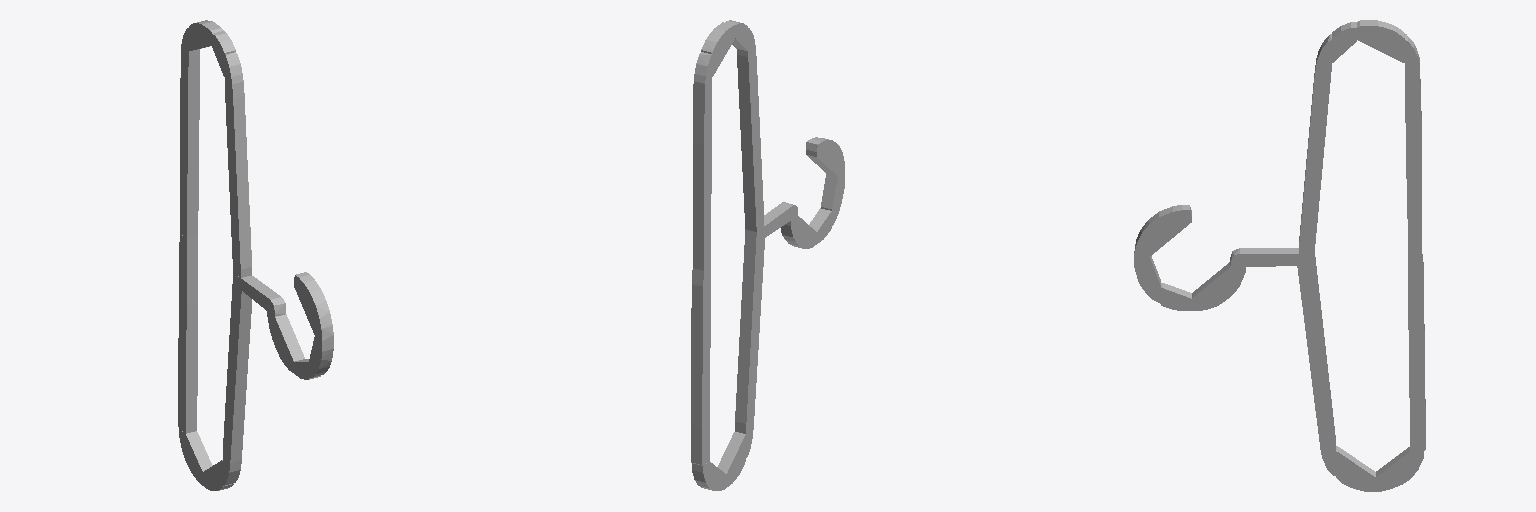
robot.urdf — root:
<robot name="root">
  <link name="link_f937e06d2f3cc9e0b80b68728684f2ff_convex_piece_0">
    <inertial>
      <origin rpy="0 0 0" xyz="0 0 0"/>
      <mass value="5.08E-08"/>
      <inertia ixx="1.53E-11" ixy="4.91E-14" ixz="-1.22E-14" iyy="1.27E-12" iyz="-3.90E-12" izz="1.40E-11"/>
    </inertial>
    <visual>
      <origin rpy="0 0 0" xyz="0 0 0"/>
      <geometry>
        <mesh filename="f937e06d2f3cc9e0b80b68728684f2ff_convex_piece_0.obj" scale="1.0000E+00"/>
      </geometry>
      <material name="">
        <color rgba="7.50E-01 7.50E-01 7.50E-01 1"/>
      </material>
    </visual>
    <collision>
      <origin rpy="0 0 0" xyz="0 0 0"/>
      <geometry>
        <mesh filename="f937e06d2f3cc9e0b80b68728684f2ff_convex_piece_0.obj" scale="1.0000E+00"/>
      </geometry>
    </collision>
  </link>
  <link name="link_f937e06d2f3cc9e0b80b68728684f2ff_convex_piece_1">
    <inertial>
      <origin rpy="0 0 0" xyz="0 0 0"/>
      <mass value="4.41E-08"/>
      <inertia ixx="2.65E-12" ixy="2.18E-14" ixz="1.24E-14" iyy="1.44E-12" iyz="2.49E-12" izz="1.23E-12"/>
    </inertial>
    <visual>
      <origin rpy="0 0 0" xyz="0 0 0"/>
      <geometry>
        <mesh filename="f937e06d2f3cc9e0b80b68728684f2ff_convex_piece_1.obj" scale="1.0000E+00"/>
      </geometry>
      <material name="">
        <color rgba="7.50E-01 7.50E-01 7.50E-01 1"/>
      </material>
    </visual>
    <collision>
      <origin rpy="0 0 0" xyz="0 0 0"/>
      <geometry>
        <mesh filename="f937e06d2f3cc9e0b80b68728684f2ff_convex_piece_1.obj" scale="1.0000E+00"/>
      </geometry>
    </collision>
  </link>
  <joint name="link_f937e06d2f3cc9e0b80b68728684f2ff_convex_piece_1_joint" type="fixed">
    <origin rpy="0 0 0" xyz="0 0 0"/>
    <parent link="link_f937e06d2f3cc9e0b80b68728684f2ff_convex_piece_0"/>
    <child link="link_f937e06d2f3cc9e0b80b68728684f2ff_convex_piece_1"/>
  </joint>
  <link name="link_f937e06d2f3cc9e0b80b68728684f2ff_convex_piece_2">
    <inertial>
      <origin rpy="0 0 0" xyz="0 0 0"/>
      <mass value="3.10E-08"/>
      <inertia ixx="-1.58E-12" ixy="4.10E-15" ixz="4.58E-16" iyy="2.33E-14" iyz="1.13E-13" izz="-1.58E-12"/>
    </inertial>
    <visual>
      <origin rpy="0 0 0" xyz="0 0 0"/>
      <geometry>
        <mesh filename="f937e06d2f3cc9e0b80b68728684f2ff_convex_piece_2.obj" scale="1.0000E+00"/>
      </geometry>
      <material name="">
        <color rgba="7.50E-01 7.50E-01 7.50E-01 1"/>
      </material>
    </visual>
    <collision>
      <origin rpy="0 0 0" xyz="0 0 0"/>
      <geometry>
        <mesh filename="f937e06d2f3cc9e0b80b68728684f2ff_convex_piece_2.obj" scale="1.0000E+00"/>
      </geometry>
    </collision>
  </link>
  <joint name="link_f937e06d2f3cc9e0b80b68728684f2ff_convex_piece_2_joint" type="fixed">
    <origin rpy="0 0 0" xyz="0 0 0"/>
    <parent link="link_f937e06d2f3cc9e0b80b68728684f2ff_convex_piece_1"/>
    <child link="link_f937e06d2f3cc9e0b80b68728684f2ff_convex_piece_2"/>
  </joint>
  <link name="link_f937e06d2f3cc9e0b80b68728684f2ff_convex_piece_3">
    <inertial>
      <origin rpy="0 0 0" xyz="0 0 0"/>
      <mass value="2.83E-08"/>
      <inertia ixx="1.05E-11" ixy="3.12E-14" ixz="5.14E-15" iyy="4.41E-13" iyz="1.98E-12" izz="1.01E-11"/>
    </inertial>
    <visual>
      <origin rpy="0 0 0" xyz="0 0 0"/>
      <geometry>
        <mesh filename="f937e06d2f3cc9e0b80b68728684f2ff_convex_piece_3.obj" scale="1.0000E+00"/>
      </geometry>
      <material name="">
        <color rgba="7.50E-01 7.50E-01 7.50E-01 1"/>
      </material>
    </visual>
    <collision>
      <origin rpy="0 0 0" xyz="0 0 0"/>
      <geometry>
        <mesh filename="f937e06d2f3cc9e0b80b68728684f2ff_convex_piece_3.obj" scale="1.0000E+00"/>
      </geometry>
    </collision>
  </link>
  <joint name="link_f937e06d2f3cc9e0b80b68728684f2ff_convex_piece_3_joint" type="fixed">
    <origin rpy="0 0 0" xyz="0 0 0"/>
    <parent link="link_f937e06d2f3cc9e0b80b68728684f2ff_convex_piece_2"/>
    <child link="link_f937e06d2f3cc9e0b80b68728684f2ff_convex_piece_3"/>
  </joint>
  <link name="link_f937e06d2f3cc9e0b80b68728684f2ff_convex_piece_4">
    <inertial>
      <origin rpy="0 0 0" xyz="0 0 0"/>
      <mass value="1.81E-08"/>
      <inertia ixx="4.57E-12" ixy="1.55E-14" ixz="6.98E-15" iyy="9.79E-13" iyz="2.18E-12" izz="3.60E-12"/>
    </inertial>
    <visual>
      <origin rpy="0 0 0" xyz="0 0 0"/>
      <geometry>
        <mesh filename="f937e06d2f3cc9e0b80b68728684f2ff_convex_piece_4.obj" scale="1.0000E+00"/>
      </geometry>
      <material name="">
        <color rgba="7.50E-01 7.50E-01 7.50E-01 1"/>
      </material>
    </visual>
    <collision>
      <origin rpy="0 0 0" xyz="0 0 0"/>
      <geometry>
        <mesh filename="f937e06d2f3cc9e0b80b68728684f2ff_convex_piece_4.obj" scale="1.0000E+00"/>
      </geometry>
    </collision>
  </link>
  <joint name="link_f937e06d2f3cc9e0b80b68728684f2ff_convex_piece_4_joint" type="fixed">
    <origin rpy="0 0 0" xyz="0 0 0"/>
    <parent link="link_f937e06d2f3cc9e0b80b68728684f2ff_convex_piece_3"/>
    <child link="link_f937e06d2f3cc9e0b80b68728684f2ff_convex_piece_4"/>
  </joint>
  <link name="link_f937e06d2f3cc9e0b80b68728684f2ff_convex_piece_5">
    <inertial>
      <origin rpy="0 0 0" xyz="0 0 0"/>
      <mass value="1.33E-07"/>
      <inertia ixx="4.93E-11" ixy="-4.13E-14" ixz="1.19E-13" iyy="5.32E-11" iyz="-1.45E-11" izz="-3.87E-12"/>
    </inertial>
    <visual>
      <origin rpy="0 0 0" xyz="0 0 0"/>
      <geometry>
        <mesh filename="f937e06d2f3cc9e0b80b68728684f2ff_convex_piece_5.obj" scale="1.0000E+00"/>
      </geometry>
      <material name="">
        <color rgba="7.50E-01 7.50E-01 7.50E-01 1"/>
      </material>
    </visual>
    <collision>
      <origin rpy="0 0 0" xyz="0 0 0"/>
      <geometry>
        <mesh filename="f937e06d2f3cc9e0b80b68728684f2ff_convex_piece_5.obj" scale="1.0000E+00"/>
      </geometry>
    </collision>
  </link>
  <joint name="link_f937e06d2f3cc9e0b80b68728684f2ff_convex_piece_5_joint" type="fixed">
    <origin rpy="0 0 0" xyz="0 0 0"/>
    <parent link="link_f937e06d2f3cc9e0b80b68728684f2ff_convex_piece_4"/>
    <child link="link_f937e06d2f3cc9e0b80b68728684f2ff_convex_piece_5"/>
  </joint>
  <link name="link_f937e06d2f3cc9e0b80b68728684f2ff_convex_piece_6">
    <inertial>
      <origin rpy="0 0 0" xyz="0 0 0"/>
      <mass value="3.47E-08"/>
      <inertia ixx="5.04E-11" ixy="-2.11E-14" ixz="6.79E-14" iyy="4.80E-11" iyz="-1.48E-11" izz="2.43E-12"/>
    </inertial>
    <visual>
      <origin rpy="0 0 0" xyz="0 0 0"/>
      <geometry>
        <mesh filename="f937e06d2f3cc9e0b80b68728684f2ff_convex_piece_6.obj" scale="1.0000E+00"/>
      </geometry>
      <material name="">
        <color rgba="7.50E-01 7.50E-01 7.50E-01 1"/>
      </material>
    </visual>
    <collision>
      <origin rpy="0 0 0" xyz="0 0 0"/>
      <geometry>
        <mesh filename="f937e06d2f3cc9e0b80b68728684f2ff_convex_piece_6.obj" scale="1.0000E+00"/>
      </geometry>
    </collision>
  </link>
  <joint name="link_f937e06d2f3cc9e0b80b68728684f2ff_convex_piece_6_joint" type="fixed">
    <origin rpy="0 0 0" xyz="0 0 0"/>
    <parent link="link_f937e06d2f3cc9e0b80b68728684f2ff_convex_piece_5"/>
    <child link="link_f937e06d2f3cc9e0b80b68728684f2ff_convex_piece_6"/>
  </joint>
  <link name="link_f937e06d2f3cc9e0b80b68728684f2ff_convex_piece_7">
    <inertial>
      <origin rpy="0 0 0" xyz="0 0 0"/>
      <mass value="3.77E-08"/>
      <inertia ixx="6.15E-11" ixy="-3.76E-14" ixz="7.35E-14" iyy="5.07E-11" iyz="-2.56E-11" izz="1.09E-11"/>
    </inertial>
    <visual>
      <origin rpy="0 0 0" xyz="0 0 0"/>
      <geometry>
        <mesh filename="f937e06d2f3cc9e0b80b68728684f2ff_convex_piece_7.obj" scale="1.0000E+00"/>
      </geometry>
      <material name="">
        <color rgba="7.50E-01 7.50E-01 7.50E-01 1"/>
      </material>
    </visual>
    <collision>
      <origin rpy="0 0 0" xyz="0 0 0"/>
      <geometry>
        <mesh filename="f937e06d2f3cc9e0b80b68728684f2ff_convex_piece_7.obj" scale="1.0000E+00"/>
      </geometry>
    </collision>
  </link>
  <joint name="link_f937e06d2f3cc9e0b80b68728684f2ff_convex_piece_7_joint" type="fixed">
    <origin rpy="0 0 0" xyz="0 0 0"/>
    <parent link="link_f937e06d2f3cc9e0b80b68728684f2ff_convex_piece_6"/>
    <child link="link_f937e06d2f3cc9e0b80b68728684f2ff_convex_piece_7"/>
  </joint>
  <link name="link_f937e06d2f3cc9e0b80b68728684f2ff_convex_piece_8">
    <inertial>
      <origin rpy="0 0 0" xyz="0 0 0"/>
      <mass value="1.12E-07"/>
      <inertia ixx="8.36E-11" ixy="-1.26E-13" ixz="9.61E-14" iyy="4.00E-11" iyz="-3.85E-11" izz="4.37E-11"/>
    </inertial>
    <visual>
      <origin rpy="0 0 0" xyz="0 0 0"/>
      <geometry>
        <mesh filename="f937e06d2f3cc9e0b80b68728684f2ff_convex_piece_8.obj" scale="1.0000E+00"/>
      </geometry>
      <material name="">
        <color rgba="7.50E-01 7.50E-01 7.50E-01 1"/>
      </material>
    </visual>
    <collision>
      <origin rpy="0 0 0" xyz="0 0 0"/>
      <geometry>
        <mesh filename="f937e06d2f3cc9e0b80b68728684f2ff_convex_piece_8.obj" scale="1.0000E+00"/>
      </geometry>
    </collision>
  </link>
  <joint name="link_f937e06d2f3cc9e0b80b68728684f2ff_convex_piece_8_joint" type="fixed">
    <origin rpy="0 0 0" xyz="0 0 0"/>
    <parent link="link_f937e06d2f3cc9e0b80b68728684f2ff_convex_piece_7"/>
    <child link="link_f937e06d2f3cc9e0b80b68728684f2ff_convex_piece_8"/>
  </joint>
  <link name="link_f937e06d2f3cc9e0b80b68728684f2ff_convex_piece_9">
    <inertial>
      <origin rpy="0 0 0" xyz="0 0 0"/>
      <mass value="1.20E-07"/>
      <inertia ixx="4.97E-11" ixy="-3.60E-14" ixz="-1.18E-13" iyy="5.37E-11" iyz="1.40E-11" izz="-3.89E-12"/>
    </inertial>
    <visual>
      <origin rpy="0 0 0" xyz="0 0 0"/>
      <geometry>
        <mesh filename="f937e06d2f3cc9e0b80b68728684f2ff_convex_piece_9.obj" scale="1.0000E+00"/>
      </geometry>
      <material name="">
        <color rgba="7.50E-01 7.50E-01 7.50E-01 1"/>
      </material>
    </visual>
    <collision>
      <origin rpy="0 0 0" xyz="0 0 0"/>
      <geometry>
        <mesh filename="f937e06d2f3cc9e0b80b68728684f2ff_convex_piece_9.obj" scale="1.0000E+00"/>
      </geometry>
    </collision>
  </link>
  <joint name="link_f937e06d2f3cc9e0b80b68728684f2ff_convex_piece_9_joint" type="fixed">
    <origin rpy="0 0 0" xyz="0 0 0"/>
    <parent link="link_f937e06d2f3cc9e0b80b68728684f2ff_convex_piece_8"/>
    <child link="link_f937e06d2f3cc9e0b80b68728684f2ff_convex_piece_9"/>
  </joint>
  <link name="link_f937e06d2f3cc9e0b80b68728684f2ff_convex_piece_10">
    <inertial>
      <origin rpy="0 0 0" xyz="0 0 0"/>
      <mass value="1.95E-08"/>
      <inertia ixx="2.76E-11" ixy="-1.02E-14" ixz="-3.84E-14" iyy="2.70E-11" iyz="7.23E-12" izz="6.43E-13"/>
    </inertial>
    <visual>
      <origin rpy="0 0 0" xyz="0 0 0"/>
      <geometry>
        <mesh filename="f937e06d2f3cc9e0b80b68728684f2ff_convex_piece_10.obj" scale="1.0000E+00"/>
      </geometry>
      <material name="">
        <color rgba="7.50E-01 7.50E-01 7.50E-01 1"/>
      </material>
    </visual>
    <collision>
      <origin rpy="0 0 0" xyz="0 0 0"/>
      <geometry>
        <mesh filename="f937e06d2f3cc9e0b80b68728684f2ff_convex_piece_10.obj" scale="1.0000E+00"/>
      </geometry>
    </collision>
  </link>
  <joint name="link_f937e06d2f3cc9e0b80b68728684f2ff_convex_piece_10_joint" type="fixed">
    <origin rpy="0 0 0" xyz="0 0 0"/>
    <parent link="link_f937e06d2f3cc9e0b80b68728684f2ff_convex_piece_9"/>
    <child link="link_f937e06d2f3cc9e0b80b68728684f2ff_convex_piece_10"/>
  </joint>
  <link name="link_f937e06d2f3cc9e0b80b68728684f2ff_convex_piece_11">
    <inertial>
      <origin rpy="0 0 0" xyz="0 0 0"/>
      <mass value="3.97E-08"/>
      <inertia ixx="6.35E-11" ixy="-3.40E-14" ixz="-7.92E-14" iyy="5.57E-11" iyz="2.39E-11" izz="7.82E-12"/>
    </inertial>
    <visual>
      <origin rpy="0 0 0" xyz="0 0 0"/>
      <geometry>
        <mesh filename="f937e06d2f3cc9e0b80b68728684f2ff_convex_piece_11.obj" scale="1.0000E+00"/>
      </geometry>
      <material name="">
        <color rgba="7.50E-01 7.50E-01 7.50E-01 1"/>
      </material>
    </visual>
    <collision>
      <origin rpy="0 0 0" xyz="0 0 0"/>
      <geometry>
        <mesh filename="f937e06d2f3cc9e0b80b68728684f2ff_convex_piece_11.obj" scale="1.0000E+00"/>
      </geometry>
    </collision>
  </link>
  <joint name="link_f937e06d2f3cc9e0b80b68728684f2ff_convex_piece_11_joint" type="fixed">
    <origin rpy="0 0 0" xyz="0 0 0"/>
    <parent link="link_f937e06d2f3cc9e0b80b68728684f2ff_convex_piece_10"/>
    <child link="link_f937e06d2f3cc9e0b80b68728684f2ff_convex_piece_11"/>
  </joint>
  <link name="link_f937e06d2f3cc9e0b80b68728684f2ff_convex_piece_12">
    <inertial>
      <origin rpy="0 0 0" xyz="0 0 0"/>
      <mass value="1.13E-07"/>
      <inertia ixx="9.38E-11" ixy="-1.25E-13" ixz="-1.14E-13" iyy="5.22E-11" iyz="4.48E-11" izz="4.17E-11"/>
    </inertial>
    <visual>
      <origin rpy="0 0 0" xyz="0 0 0"/>
      <geometry>
        <mesh filename="f937e06d2f3cc9e0b80b68728684f2ff_convex_piece_12.obj" scale="1.0000E+00"/>
      </geometry>
      <material name="">
        <color rgba="7.50E-01 7.50E-01 7.50E-01 1"/>
      </material>
    </visual>
    <collision>
      <origin rpy="0 0 0" xyz="0 0 0"/>
      <geometry>
        <mesh filename="f937e06d2f3cc9e0b80b68728684f2ff_convex_piece_12.obj" scale="1.0000E+00"/>
      </geometry>
    </collision>
  </link>
  <joint name="link_f937e06d2f3cc9e0b80b68728684f2ff_convex_piece_12_joint" type="fixed">
    <origin rpy="0 0 0" xyz="0 0 0"/>
    <parent link="link_f937e06d2f3cc9e0b80b68728684f2ff_convex_piece_11"/>
    <child link="link_f937e06d2f3cc9e0b80b68728684f2ff_convex_piece_12"/>
  </joint>
</robot>

--- What the picture shows (computed from the rendered views, not written in the file) ---
The picture shows the robot from 3 angles, left to right: view 1: azimuth 30°, elevation 25°; view 2: azimuth 150°, elevation 25°; view 3: azimuth 270°, elevation 25°; orthographic projection.
Robot: root — 13 links, 12 joints (12 fixed); root link link_f937e06d2f3cc9e0b80b68728684f2ff_convex_piece_0; default pose: all joints at 0.
Visible links, largest first — view 1: link_f937e06d2f3cc9e0b80b68728684f2ff_convex_piece_9, link_f937e06d2f3cc9e0b80b68728684f2ff_convex_piece_5, link_f937e06d2f3cc9e0b80b68728684f2ff_convex_piece_8, link_f937e06d2f3cc9e0b80b68728684f2ff_convex_piece_12, link_f937e06d2f3cc9e0b80b68728684f2ff_convex_piece_0, link_f937e06d2f3cc9e0b80b68728684f2ff_convex_piece_1, link_f937e06d2f3cc9e0b80b68728684f2ff_convex_piece_7, link_f937e06d2f3cc9e0b80b68728684f2ff_convex_piece_2, link_f937e06d2f3cc9e0b80b68728684f2ff_convex_piece_3, link_f937e06d2f3cc9e0b80b68728684f2ff_convex_piece_11, link_f937e06d2f3cc9e0b80b68728684f2ff_convex_piece_10; view 2: link_f937e06d2f3cc9e0b80b68728684f2ff_convex_piece_5, link_f937e06d2f3cc9e0b80b68728684f2ff_convex_piece_12, link_f937e06d2f3cc9e0b80b68728684f2ff_convex_piece_8, link_f937e06d2f3cc9e0b80b68728684f2ff_convex_piece_9, link_f937e06d2f3cc9e0b80b68728684f2ff_convex_piece_0, link_f937e06d2f3cc9e0b80b68728684f2ff_convex_piece_11, link_f937e06d2f3cc9e0b80b68728684f2ff_convex_piece_6, link_f937e06d2f3cc9e0b80b68728684f2ff_convex_piece_1, link_f937e06d2f3cc9e0b80b68728684f2ff_convex_piece_3, link_f937e06d2f3cc9e0b80b68728684f2ff_convex_piece_7, link_f937e06d2f3cc9e0b80b68728684f2ff_convex_piece_2; view 3: link_f937e06d2f3cc9e0b80b68728684f2ff_convex_piece_5, link_f937e06d2f3cc9e0b80b68728684f2ff_convex_piece_9, link_f937e06d2f3cc9e0b80b68728684f2ff_convex_piece_12, link_f937e06d2f3cc9e0b80b68728684f2ff_convex_piece_8, link_f937e06d2f3cc9e0b80b68728684f2ff_convex_piece_0, link_f937e06d2f3cc9e0b80b68728684f2ff_convex_piece_1, link_f937e06d2f3cc9e0b80b68728684f2ff_convex_piece_11, link_f937e06d2f3cc9e0b80b68728684f2ff_convex_piece_2, link_f937e06d2f3cc9e0b80b68728684f2ff_convex_piece_7, link_f937e06d2f3cc9e0b80b68728684f2ff_convex_piece_6, link_f937e06d2f3cc9e0b80b68728684f2ff_convex_piece_3, link_f937e06d2f3cc9e0b80b68728684f2ff_convex_piece_10 (+1 smaller).
Link boxes in pixels (bbox=[...]): link_f937e06d2f3cc9e0b80b68728684f2ff_convex_piece_9: bbox=[225, 52, 251, 277]; link_f937e06d2f3cc9e0b80b68728684f2ff_convex_piece_5: bbox=[223, 273, 251, 485]; link_f937e06d2f3cc9e0b80b68728684f2ff_convex_piece_8: bbox=[178, 234, 197, 433]; link_f937e06d2f3cc9e0b80b68728684f2ff_convex_piece_12: bbox=[180, 28, 199, 237]; link_f937e06d2f3cc9e0b80b68728684f2ff_convex_piece_0: bbox=[294, 272, 333, 340]; link_f937e06d2f3cc9e0b80b68728684f2ff_convex_piece_1: bbox=[267, 311, 304, 372]; link_f937e06d2f3cc9e0b80b68728684f2ff_convex_piece_7: bbox=[179, 429, 212, 485]; link_f937e06d2f3cc9e0b80b68728684f2ff_convex_piece_2: bbox=[242, 276, 285, 316]; link_f937e06d2f3cc9e0b80b68728684f2ff_convex_piece_3: bbox=[309, 336, 333, 378]; link_f937e06d2f3cc9e0b80b68728684f2ff_convex_piece_11: bbox=[189, 20, 223, 50]; link_f937e06d2f3cc9e0b80b68728684f2ff_convex_piece_10: bbox=[212, 31, 235, 76]; link_f937e06d2f3cc9e0b80b68728684f2ff_convex_piece_5: bbox=[735, 226, 764, 457]; link_f937e06d2f3cc9e0b80b68728684f2ff_convex_piece_12: bbox=[693, 52, 711, 270]; link_f937e06d2f3cc9e0b80b68728684f2ff_convex_piece_8: bbox=[691, 266, 710, 465]; link_f937e06d2f3cc9e0b80b68728684f2ff_convex_piece_9: bbox=[737, 28, 763, 231]; link_f937e06d2f3cc9e0b80b68728684f2ff_convex_piece_0: bbox=[806, 137, 844, 175]; link_f937e06d2f3cc9e0b80b68728684f2ff_convex_piece_11: bbox=[701, 22, 735, 76]; link_f937e06d2f3cc9e0b80b68728684f2ff_convex_piece_6: bbox=[718, 432, 745, 486]; link_f937e06d2f3cc9e0b80b68728684f2ff_convex_piece_1: bbox=[781, 216, 816, 248]; link_f937e06d2f3cc9e0b80b68728684f2ff_convex_piece_3: bbox=[821, 171, 844, 225]; link_f937e06d2f3cc9e0b80b68728684f2ff_convex_piece_7: bbox=[692, 461, 726, 490]; link_f937e06d2f3cc9e0b80b68728684f2ff_convex_piece_2: bbox=[764, 202, 797, 237]; link_f937e06d2f3cc9e0b80b68728684f2ff_convex_piece_5: bbox=[1297, 248, 1335, 475]; link_f937e06d2f3cc9e0b80b68728684f2ff_convex_piece_9: bbox=[1299, 34, 1331, 253]; link_f937e06d2f3cc9e0b80b68728684f2ff_convex_piece_12: bbox=[1405, 34, 1421, 253]; link_f937e06d2f3cc9e0b80b68728684f2ff_convex_piece_8: bbox=[1408, 254, 1425, 451]; link_f937e06d2f3cc9e0b80b68728684f2ff_convex_piece_0: bbox=[1134, 205, 1191, 256]; link_f937e06d2f3cc9e0b80b68728684f2ff_convex_piece_1: bbox=[1192, 262, 1245, 310]; link_f937e06d2f3cc9e0b80b68728684f2ff_convex_piece_11: bbox=[1357, 20, 1404, 62]; link_f937e06d2f3cc9e0b80b68728684f2ff_convex_piece_2: bbox=[1230, 248, 1296, 267]; link_f937e06d2f3cc9e0b80b68728684f2ff_convex_piece_7: bbox=[1376, 447, 1423, 491]; link_f937e06d2f3cc9e0b80b68728684f2ff_convex_piece_6: bbox=[1336, 446, 1375, 491]; link_f937e06d2f3cc9e0b80b68728684f2ff_convex_piece_3: bbox=[1134, 256, 1160, 303]; link_f937e06d2f3cc9e0b80b68728684f2ff_convex_piece_10: bbox=[1332, 22, 1356, 62].
Size in the robot's own frame: 0.0021 by 0.0454 by 0.08 metres.
13 mesh visuals loaded from 13 distinct referenced files (13 OBJ).